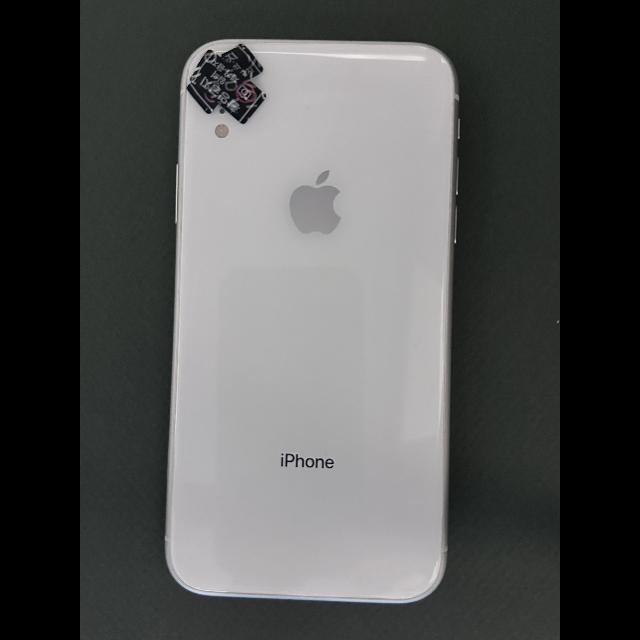phone: (165, 39, 461, 604)
sticker: (190, 49, 267, 124), (221, 44, 263, 79)
